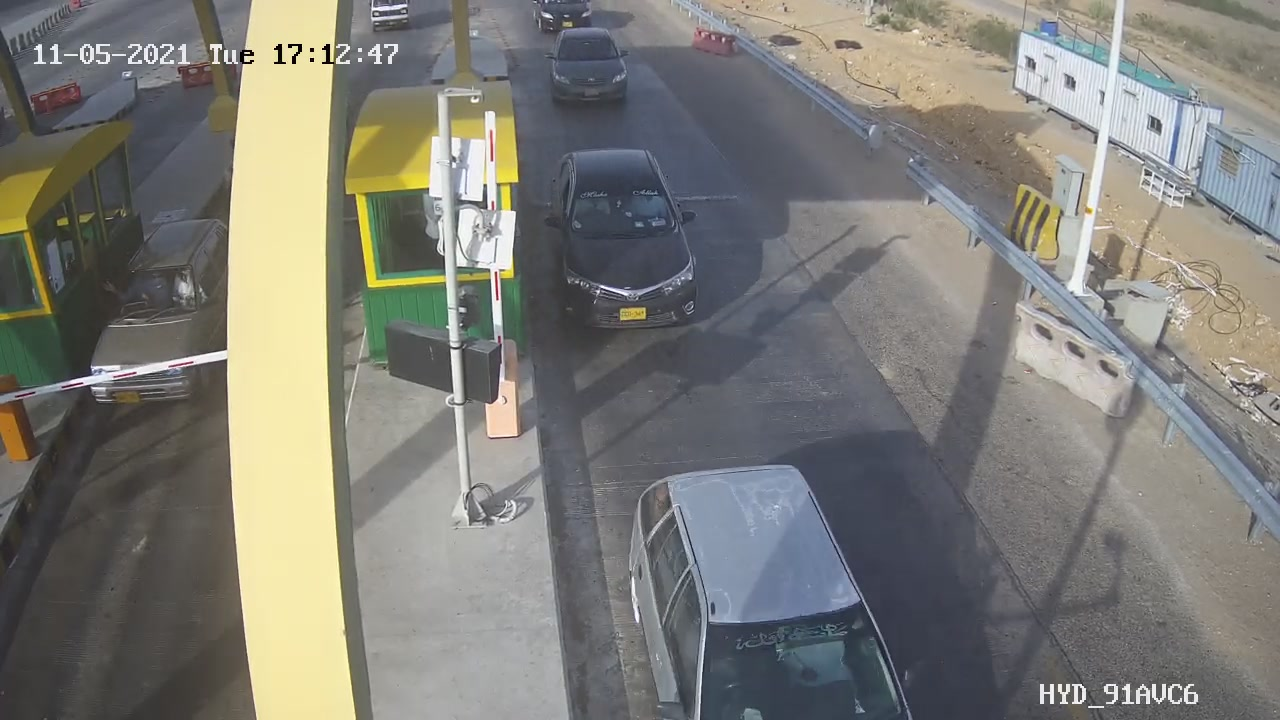F1: (533, 136, 724, 346), (533, 16, 647, 117)
